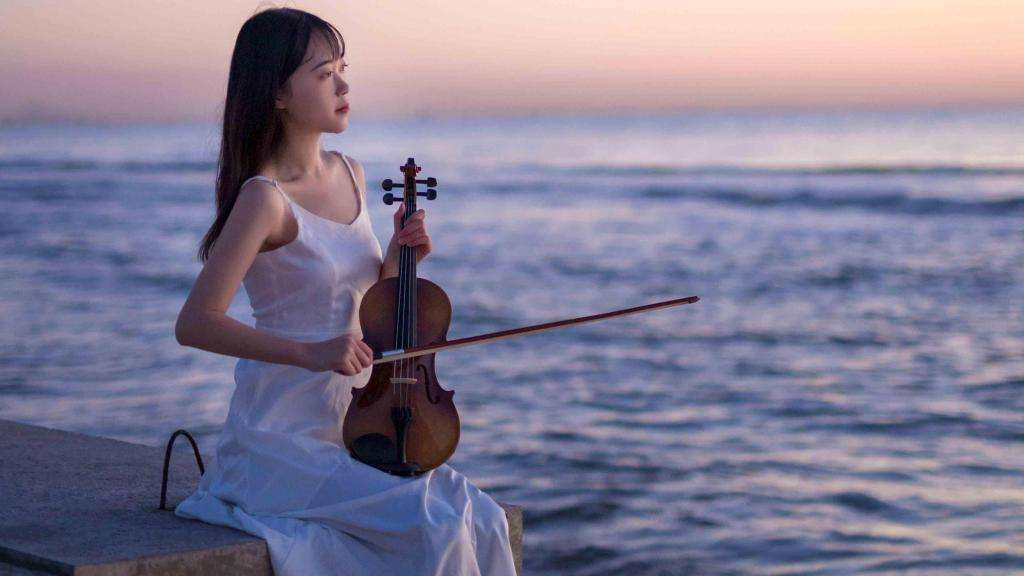person: (195, 14, 512, 576)
